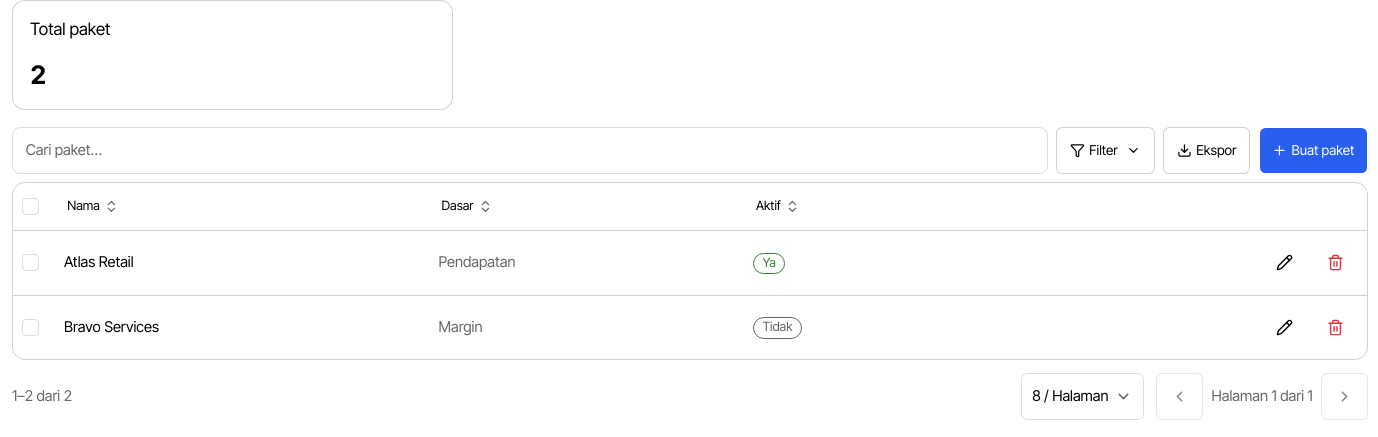
Test: CommissionPlansSection › filters plans through the search box
Expected: the link "Atlas Retail" is shown, [64,253,134,271]
Type "Bravo" into the search field with placeholder "Cari paket…" at (530, 150), box [12,127,1048,174]
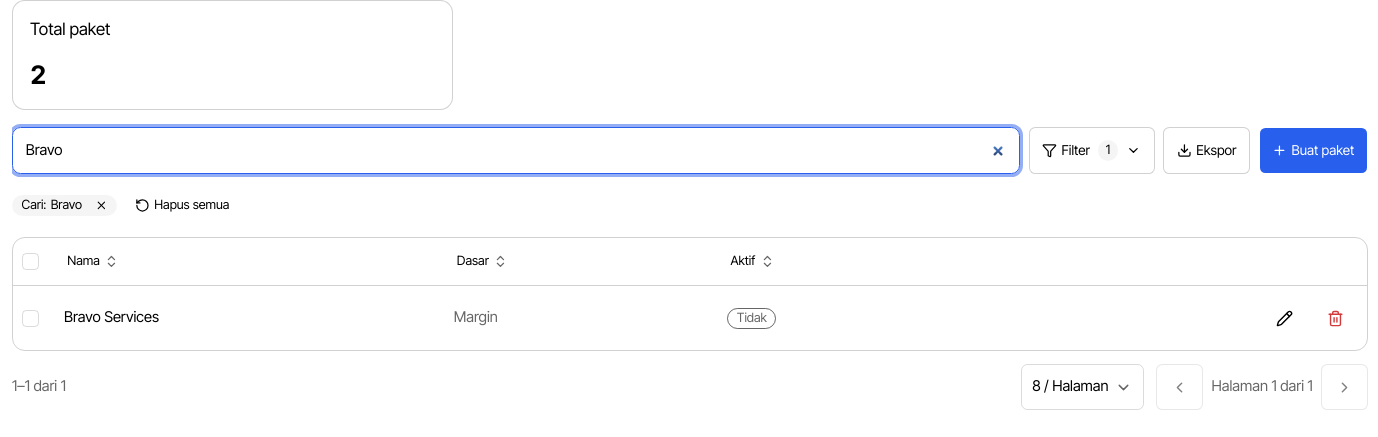
Expected: the link "Bravo Services" is shown, [64,308,159,326]
Expected: the link "Atlas Retail" is gone
